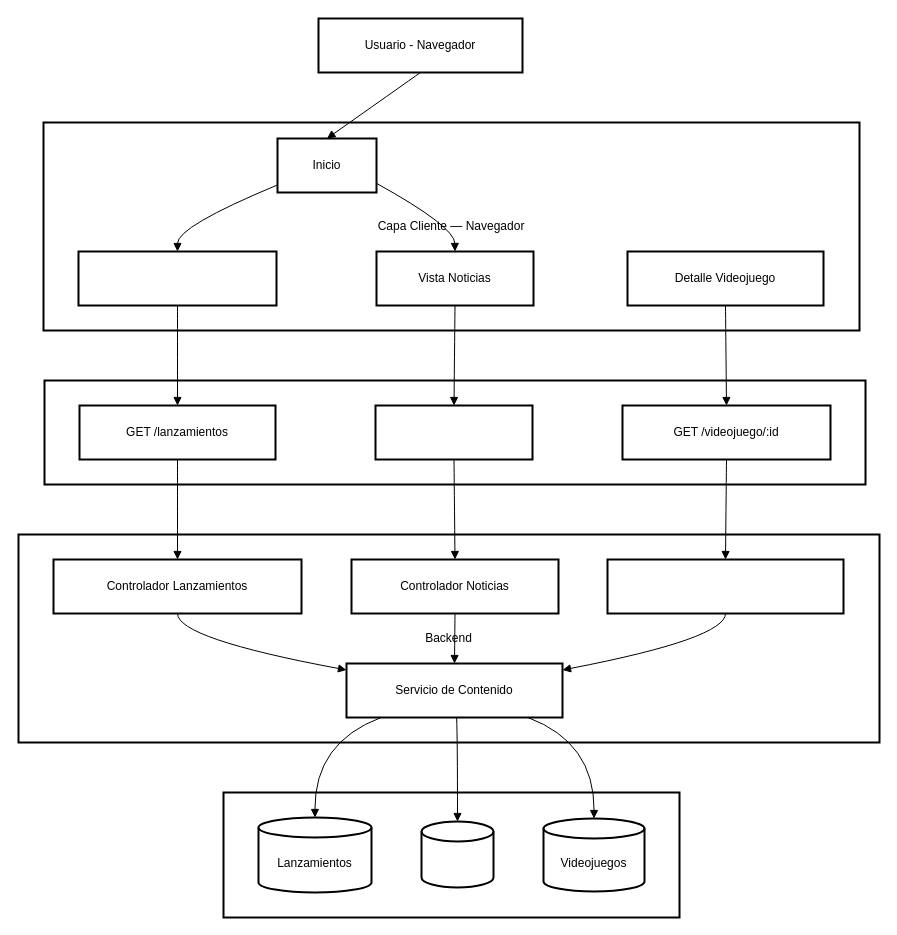
Image size: 897x935. Some labels were removed from this diagram. The shapes that lost their labels are listed below. From the top down, each one's box as (x1, y1, x2, y2) in pixels, then its label:
(77, 250, 277, 306): Vista Lanzamientos
(374, 404, 533, 460): GET /noticias
(43, 379, 866, 485): API HTTP
(606, 558, 844, 614): Controlador Videojuegos
(222, 791, 680, 918): Base de Datos
(420, 820, 494, 888): Noticias
